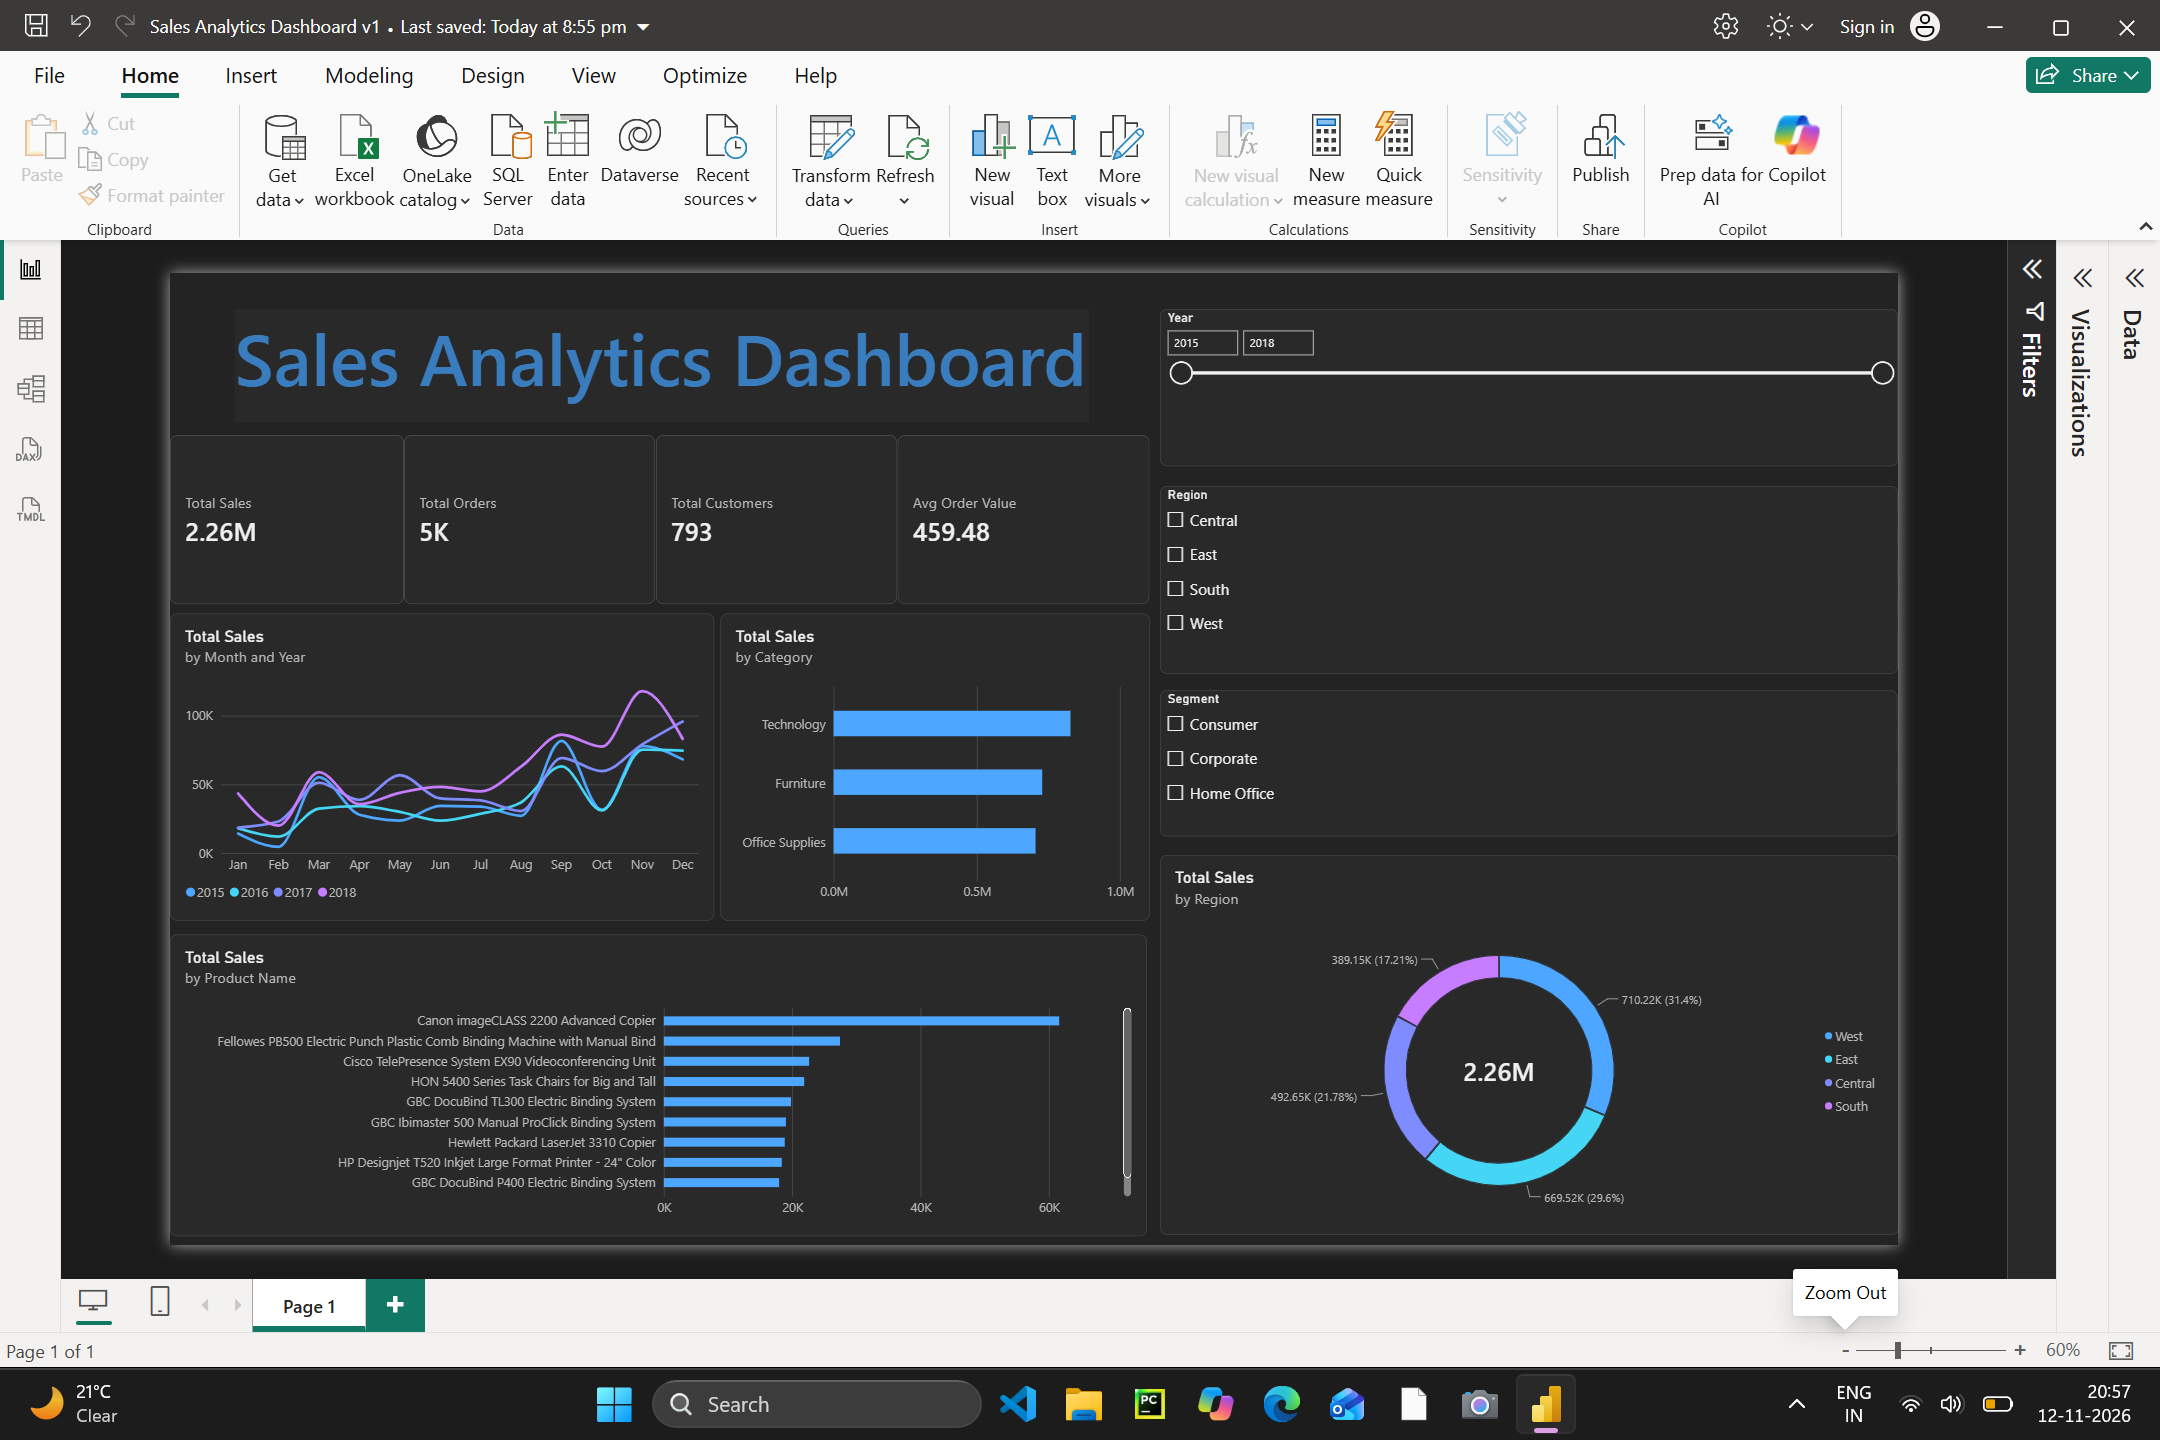

This screenshot's page, from the dashboard's own definition file:
{"tool":"powerbi","page":{"name":"Page 1","canvas":[1920,1080],"ordinal":0},"visuals":[{"type":"cardVisual","fields":{"Data":["Calendar.Total Sales"]},"box":[0,179.3,260.4,188.7],"z":0},{"type":"cardVisual","fields":{"Data":["Calendar.Total Customers"]},"box":[539.5,179.3,268.2,188.7],"z":1},{"type":"cardVisual","fields":{"Data":["Calendar.Avg Order Value"]},"box":[807.7,179.3,280.7,188.7],"z":2},{"type":"cardVisual","fields":{"Data":["Calendar.Total Orders"]},"box":[260.4,179.3,279.1,188.7],"z":3},{"type":"lineChart","fields":{"Category":["Calendar.Month"],"Series":["Calendar.Year"],"Y":["Calendar.Total Sales"]},"box":[0,378.9,605,341.5],"z":4},{"type":"clusteredBarChart","fields":{"Category":["Orders.Category"],"Y":["Calendar.Total Sales"]},"box":[611.2,378.9,477.1,341.5],"z":5},{"type":"clusteredBarChart","fields":{"Category":["Orders.Product Name"],"Y":["Calendar.Total Sales"]},"box":[0,734.4,1085.2,335.2],"z":6},{"type":"donutChart","fields":{"Category":["Orders.Region"],"Y":["Calendar.Total Sales"]},"box":[1099.2,661.1,821.7,408.5],"z":7},{"type":"slicer","fields":{"Values":["Calendar.Year"]},"box":[1099.2,14,820.1,205.8],"z":8},{"type":"slicer","fields":{"Values":["Orders.Segment"]},"box":[1099.2,463.1,820.1,179.3],"z":9},{"type":"slicer","fields":{"Values":["Orders.Region"]},"box":[1099.2,237,820.1,208.9],"z":10},{"type":"textbox","box":[82.6,40.5,958.9,126.3],"z":12}]}

Visuals, with their boxes on the page's 1920x1080 design canvas (x1, y1, x2, y2). These are canvas units, not pixel positions in the 2160x1440 screenshot, which may show the page scaled, cropped or inside an application window:
cardVisual - Calendar.Total Sales: 0:179:260:368
cardVisual - Calendar.Total Customers: 540:179:808:368
cardVisual - Calendar.Avg Order Value: 808:179:1088:368
cardVisual - Calendar.Total Orders: 260:179:540:368
lineChart - Calendar.Month x Calendar.Year: 0:379:605:720
clusteredBarChart - Orders.Category x Calendar.Total Sales: 611:379:1088:720
clusteredBarChart - Orders.Product Name x Calendar.Total Sales: 0:734:1085:1070
donutChart - Orders.Region x Calendar.Total Sales: 1099:661:1921:1070
slicer - Calendar.Year: 1099:14:1919:220
slicer - Orders.Segment: 1099:463:1919:642
slicer - Orders.Region: 1099:237:1919:446
textbox: 83:40:1042:167
